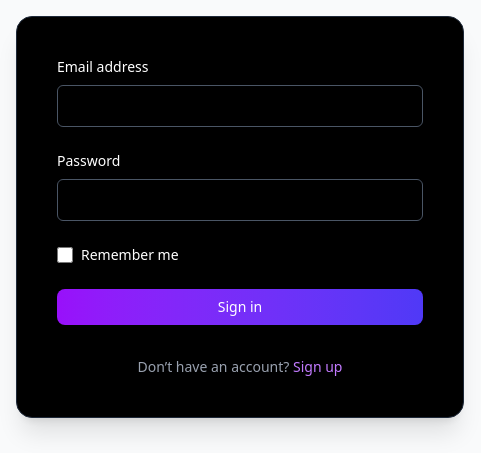
LoginForm - POM style › should show loading state when form is submitting
This screenshot has width=481, height=453.
Type "test@example.com" into the field labelled "Email address" at (240, 106), box [57,85,423,127]
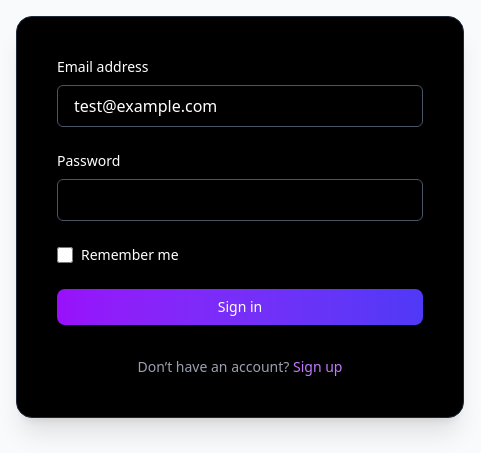
Type "password123" into the password field labelled "Password" at (240, 200), box [57,179,423,221]
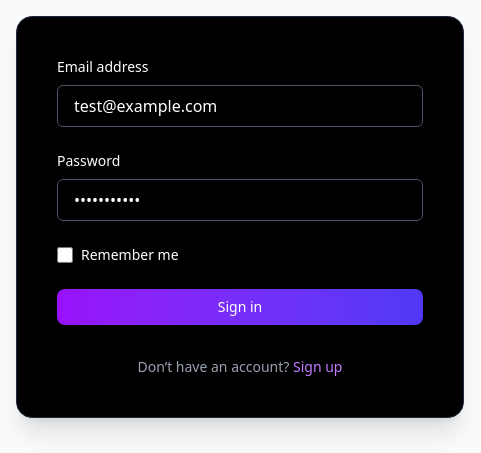
Click the button "Sign in" at (240, 307), box [57,289,423,325]
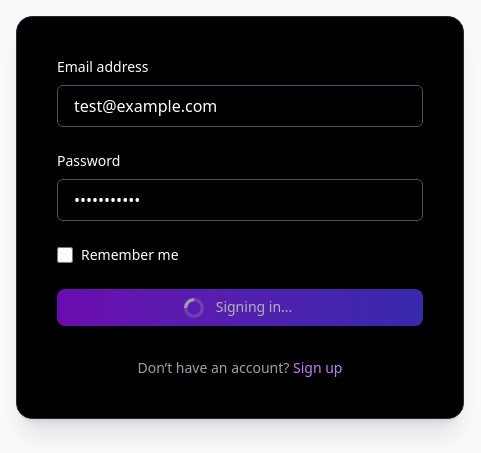
Expected: the button "Signing in..." is shown, [57,289,423,326]
